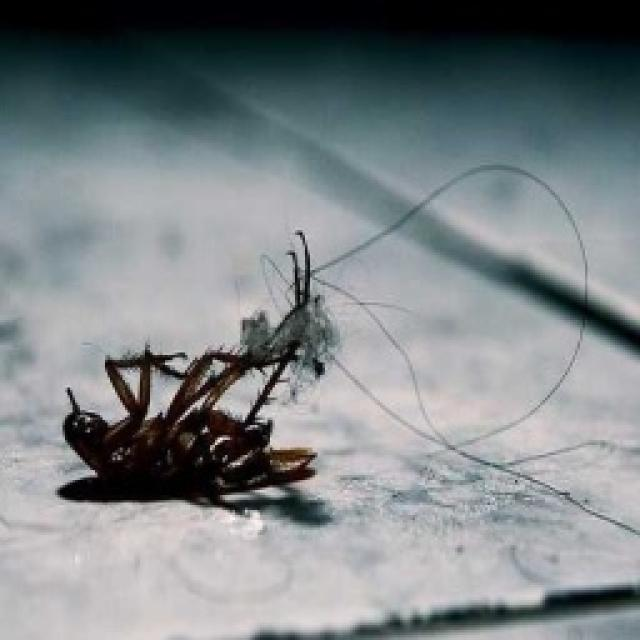cockroach: (34, 160, 378, 627)
